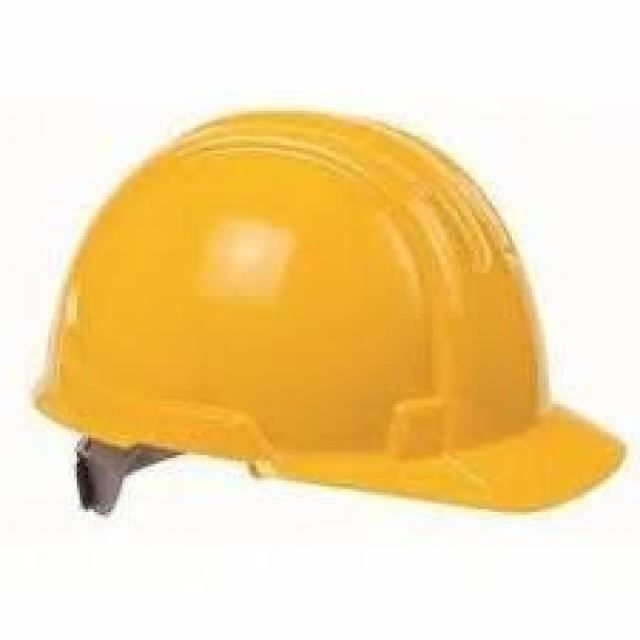Safety-Helmet: (31, 91, 620, 526)
